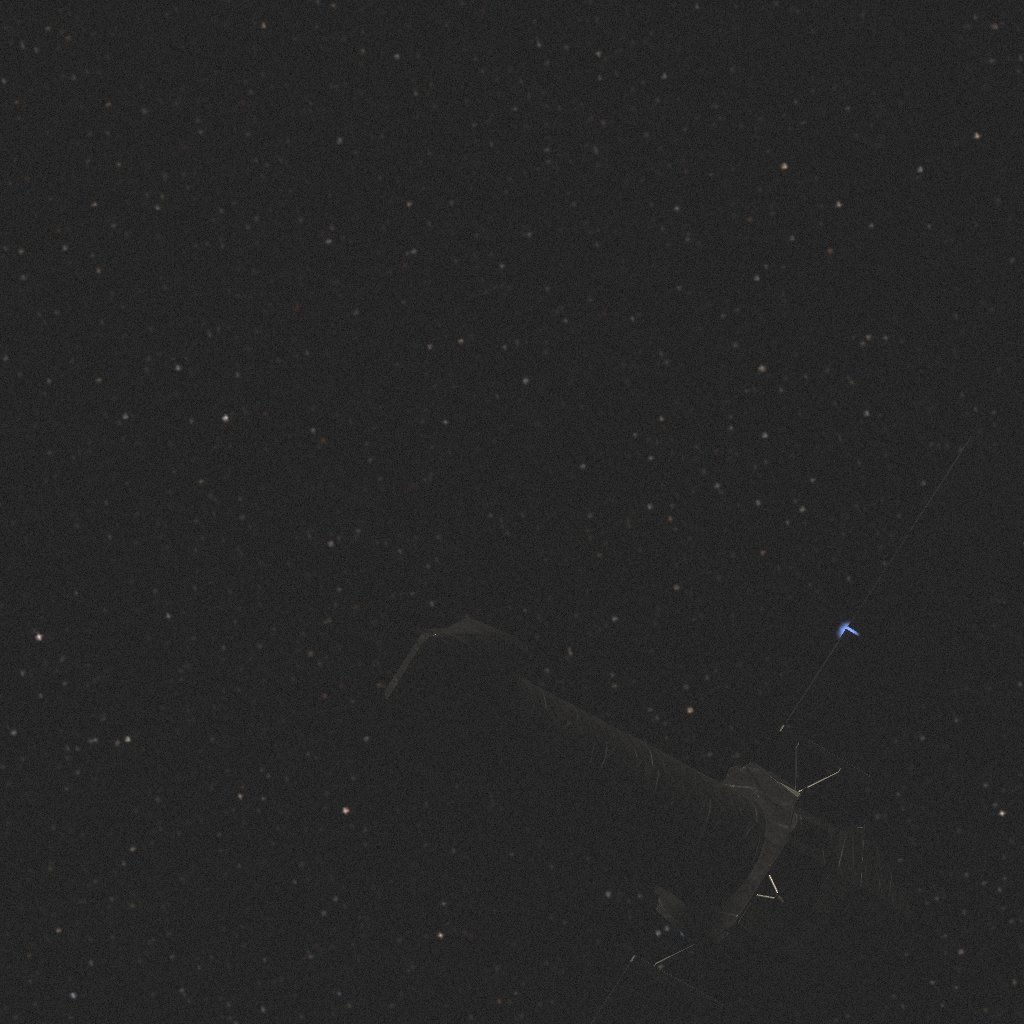xmm_newton: (382, 436, 1024, 1024)
